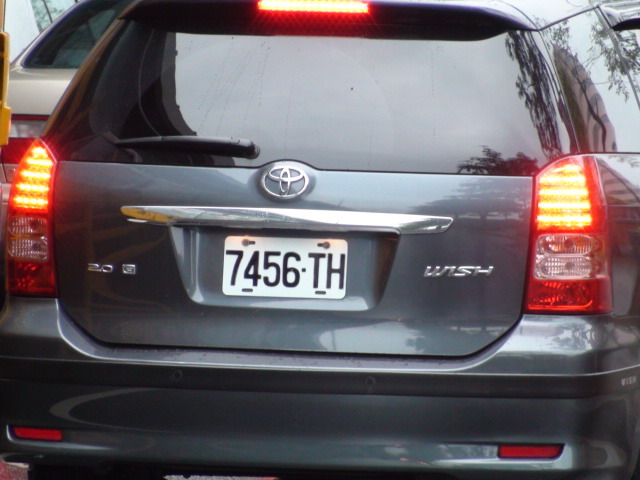plate: (219, 231, 350, 305)
